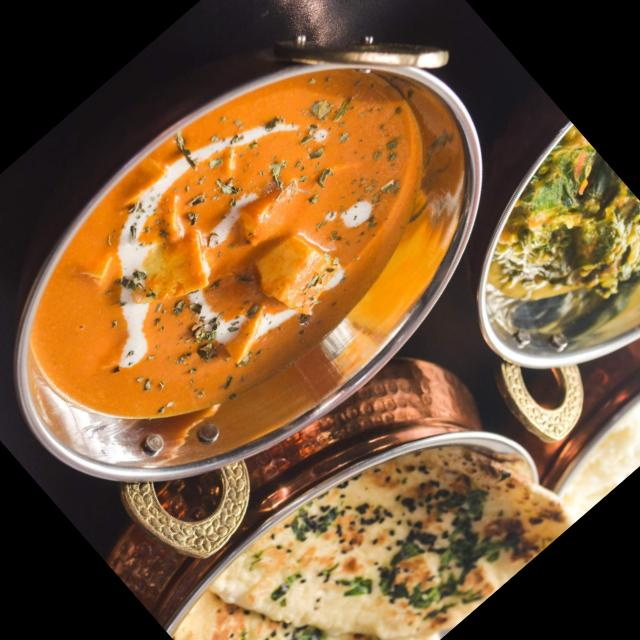ShahiPaneer: (0, 0, 489, 487)
